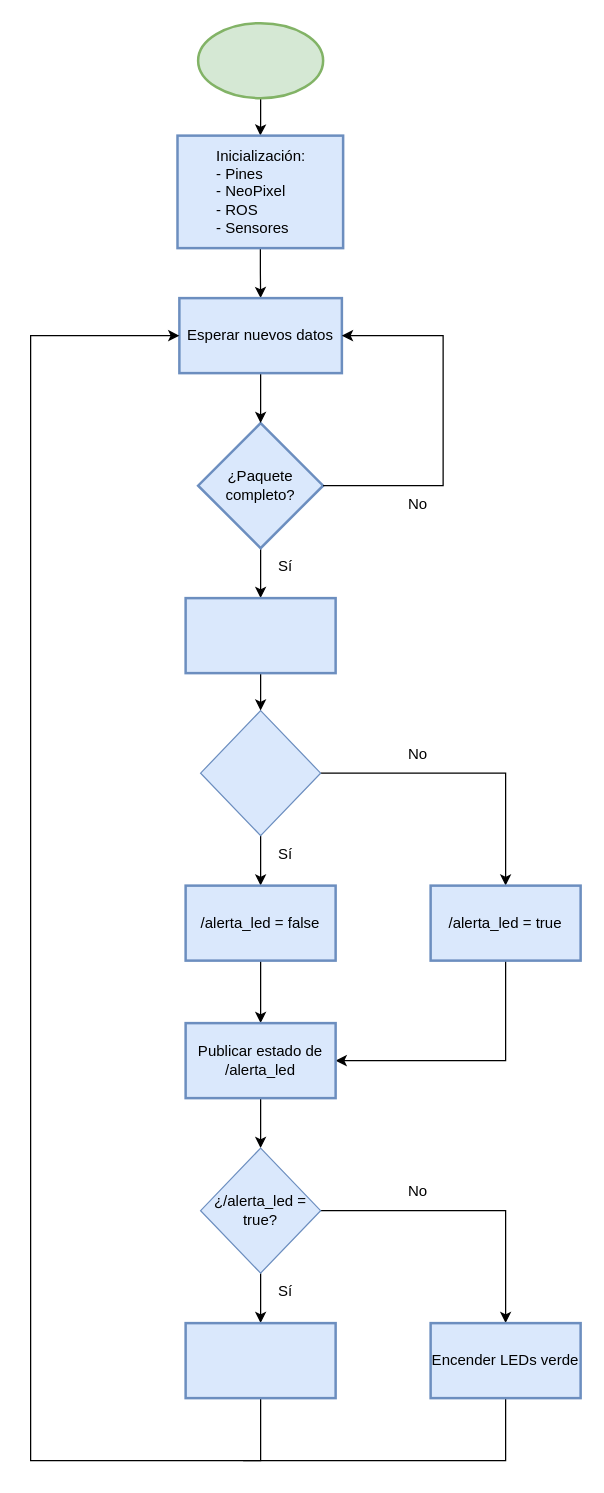
This 604x1493 diagram has some shape labels left out. The shapes that lost their labels are listed below. From the top down, each one's box as (x1, y1, x2, y2) in pixels, then its label:
(196, 21, 324, 99): INICIO
(184, 596, 336, 674): Publicar en /sensor_distances
(199, 709, 321, 836): ¿Rango válido?
(184, 1321, 336, 1399): Encender LEDs rojo
